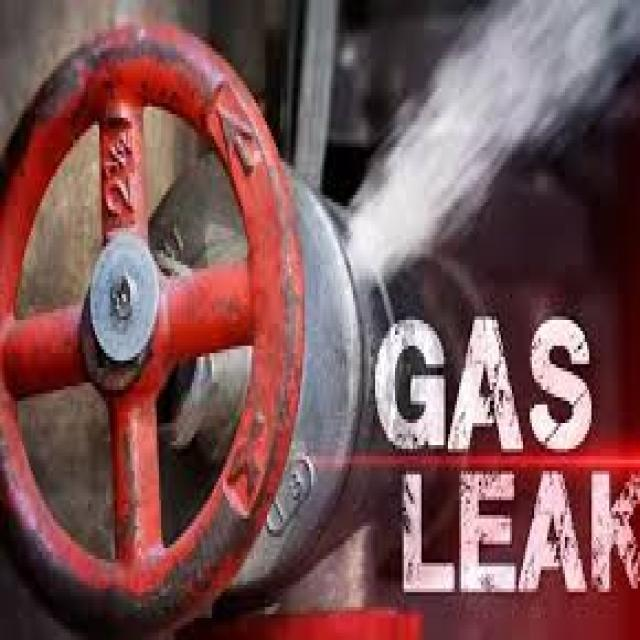corrosion: (295, 162, 430, 315)
